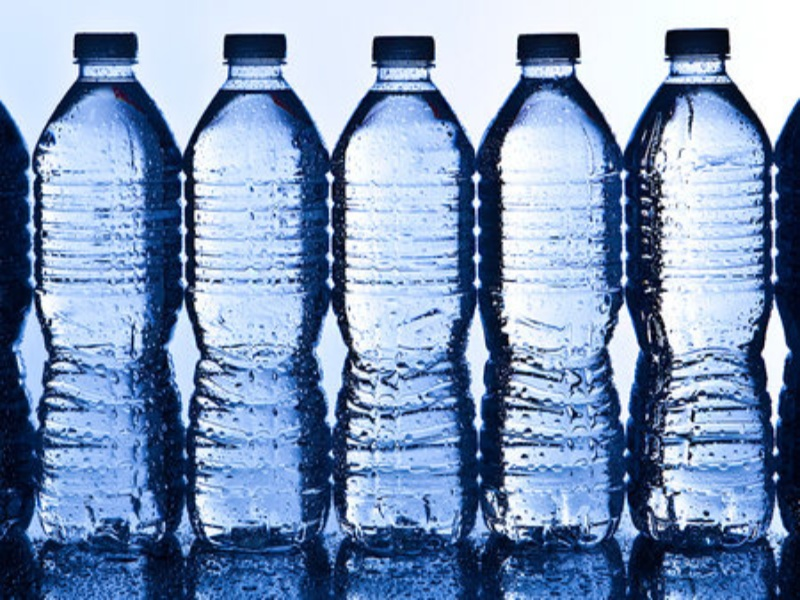Plastic bottle: (299, 25, 511, 568), (435, 20, 650, 544), (14, 39, 217, 567), (155, 13, 343, 550), (638, 37, 791, 569)
